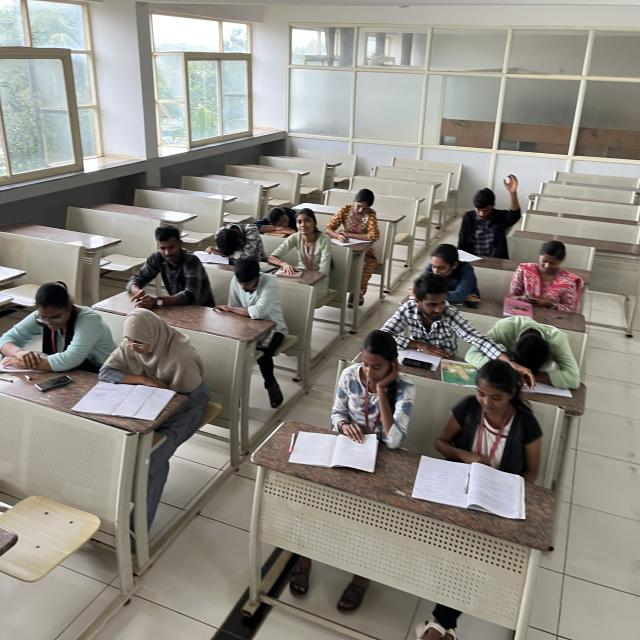Hand Rising: (449, 148, 531, 251)
Reading: (257, 328, 408, 510), (434, 369, 528, 508), (90, 302, 190, 419)
Sleeping: (465, 300, 591, 384), (196, 204, 263, 263), (246, 198, 303, 248)
Using Phone: (10, 275, 99, 401), (509, 227, 593, 312)
